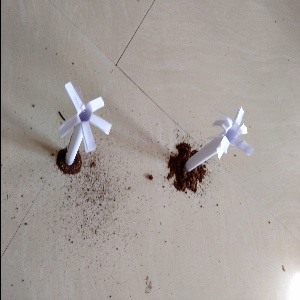weed: (179, 90, 254, 190), (53, 76, 114, 178)
